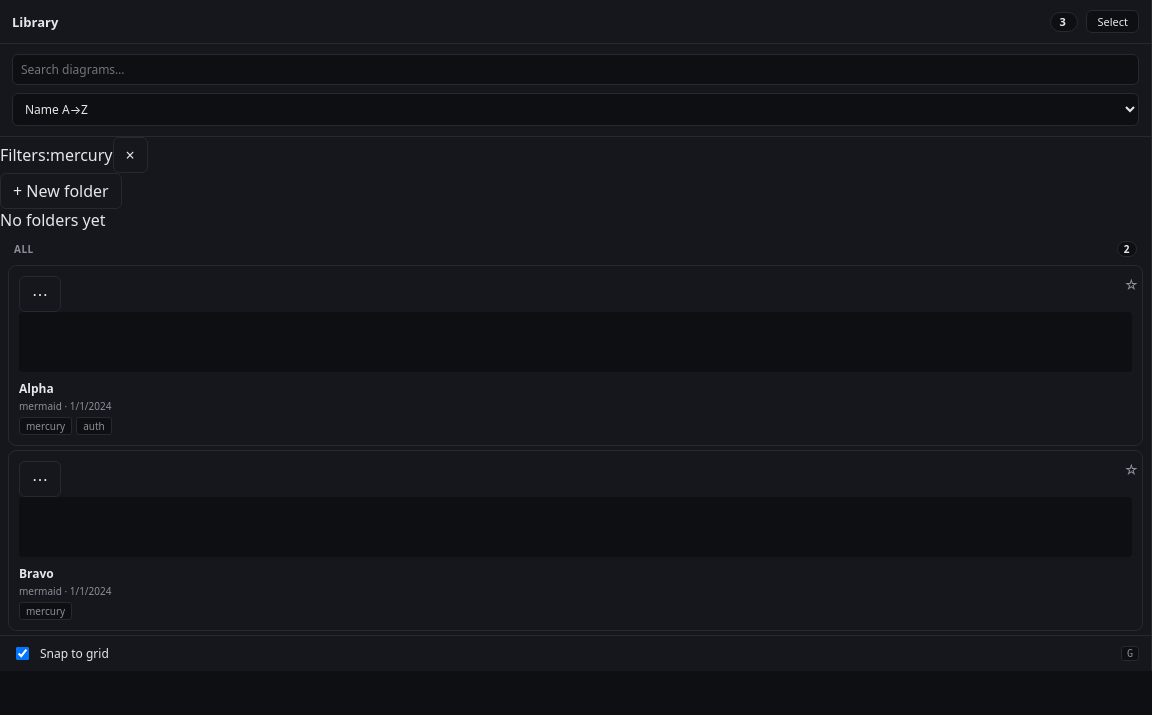
FilterChips (issue #7 F3) › removing a filter chip via its X clears that filter
Click the button named "Remove filter mercury".
click(130, 155)  # box [112,137,148,173]
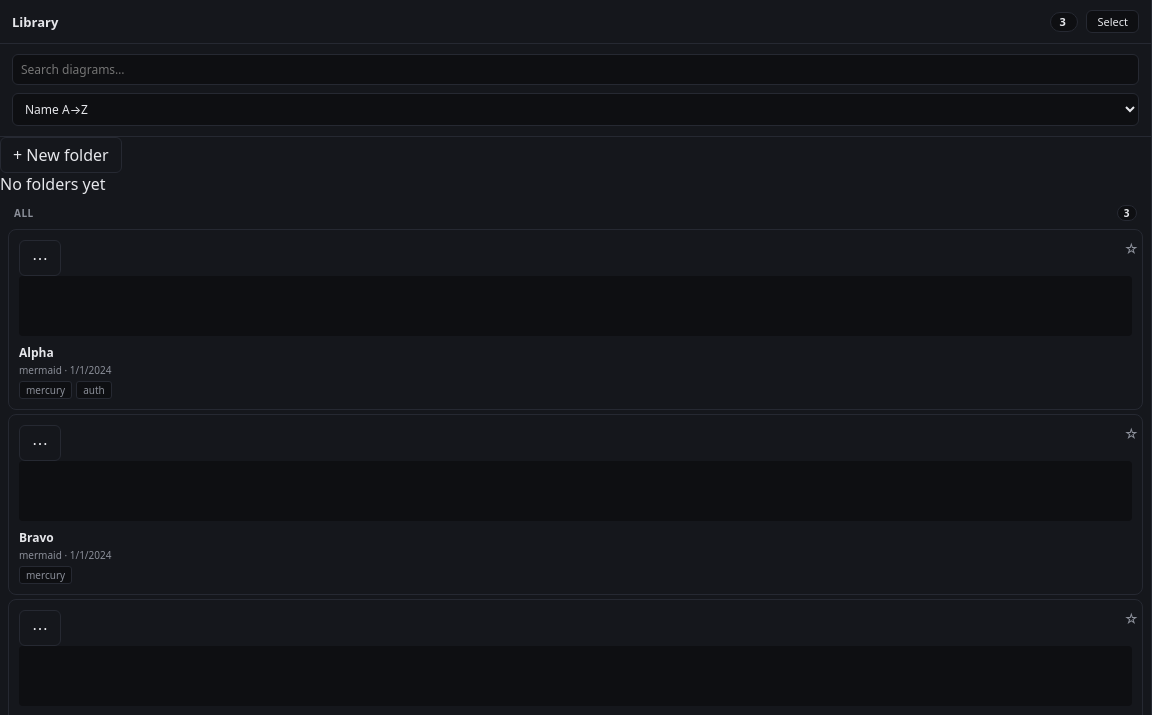
Result: the element with test id "library-filter-chips" is gone
